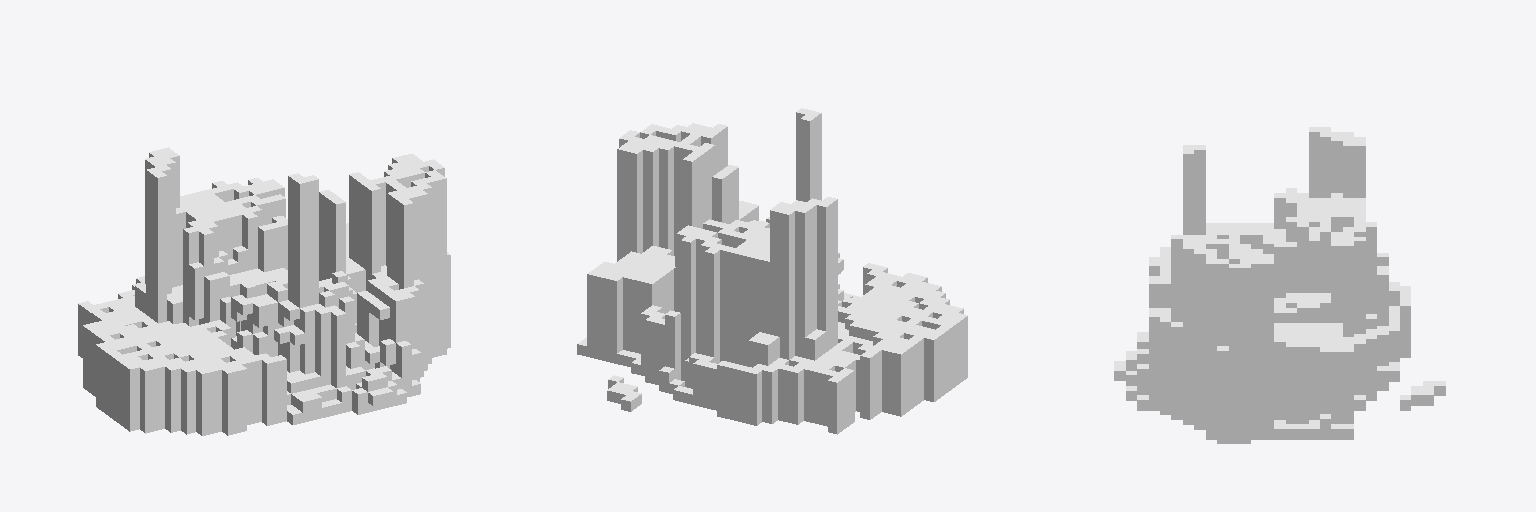
Rendered from roca2.obj.
3 renders of one model, left to right at view 1: azimuth 30°, elevation 25°; view 2: azimuth 150°, elevation 25°; view 3: azimuth 270°, elevation 25°, orthographic.
Visible parts, largest first — view 1: object 1; view 2: object 1; view 3: object 1.
Part boxes in pixels (bbox=[...]): object 1: bbox=[78, 147, 450, 435]; object 1: bbox=[577, 108, 967, 434]; object 1: bbox=[1114, 127, 1445, 443].
Size of the model in its own units: 3.3 by 2.1 by 2.9.